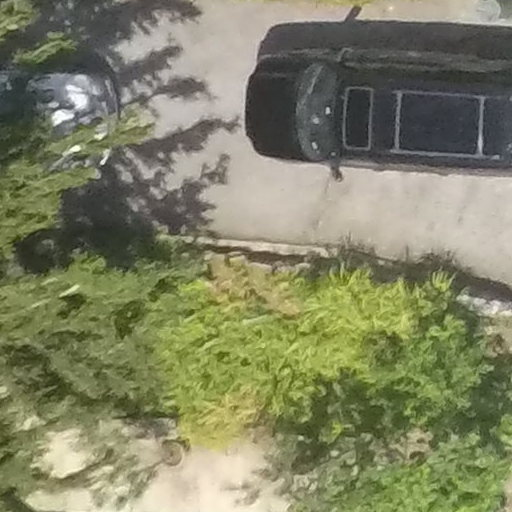car: (235, 38, 512, 189)
